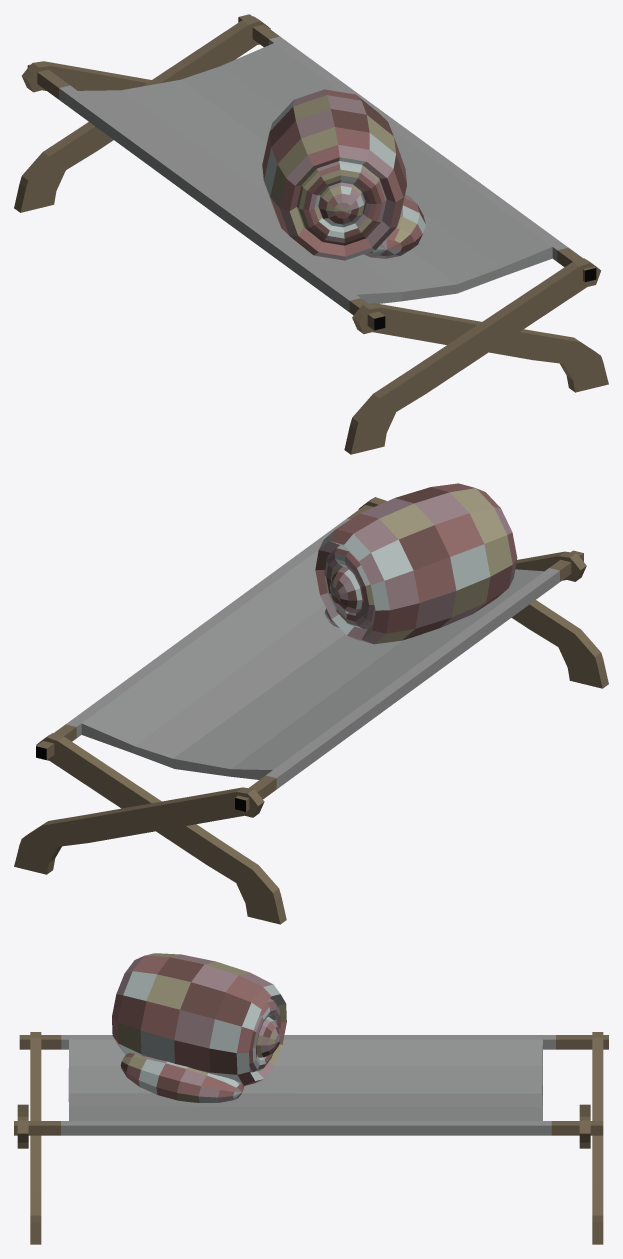
Rendered from Sleeping_cot_white.glb.
3 renders of one model, top to bottom at view 1: azimuth 30°, elevation 25°; view 2: azimuth 150°, elevation 25°; view 3: azimuth 270°, elevation 25°, orthographic. The views are drawn at different scales.
Visible parts, largest first — view 1: group525752226, group1041837734, group1224999123, group802491558, group1037513086, group2041126463, group499535218, group215986146, group1577345827, group559781611, group2051142577; view 2: group525752226, group1041837734, group1577345827, group2041126463, group802491558, group215986146, group1224999123, group955491185, group911579974, group1037513086; view 3: group525752226, group1041837734, group215986146, group559781611, group802491558, group1577345827, group1037513086, group955491185, group911579974, group2041126463, group1224999123.
Boxes of the visible parts, x1,y1,x2,y2 form: group525752226: (78, 43, 552, 303); group1041837734: (262, 89, 406, 260); group1224999123: (344, 258, 601, 454); group802491558: (27, 64, 385, 330); group1037513086: (352, 303, 608, 392); group2041126463: (14, 16, 270, 212); group499535218: (296, 161, 386, 245); group215986146: (238, 14, 596, 282); group1577345827: (22, 61, 151, 92); group559781611: (364, 194, 425, 258); group2051142577: (318, 182, 364, 227); group525752226: (81, 550, 543, 779); group1041837734: (315, 483, 517, 644); group1577345827: (14, 787, 264, 874); group2041126463: (36, 733, 286, 924); group802491558: (235, 550, 583, 811); group215986146: (36, 505, 373, 760); group1224999123: (358, 497, 608, 688); group955491185: (324, 545, 375, 628); group911579974: (330, 566, 362, 612); group1037513086: (515, 551, 586, 581); group525752226: (68, 1039, 542, 1120); group1041837734: (112, 953, 286, 1085); group215986146: (14, 1121, 603, 1135); group559781611: (120, 1053, 244, 1102); group802491558: (19, 1035, 608, 1049); group1577345827: (592, 1032, 603, 1244); group1037513086: (30, 1032, 41, 1244); group955491185: (249, 998, 280, 1072); group911579974: (256, 1017, 280, 1057); group2041126463: (579, 1104, 590, 1148); group1224999123: (17, 1104, 28, 1148).
Size of the model in its own units: 0.4737 by 0.4162 by 1.08.
